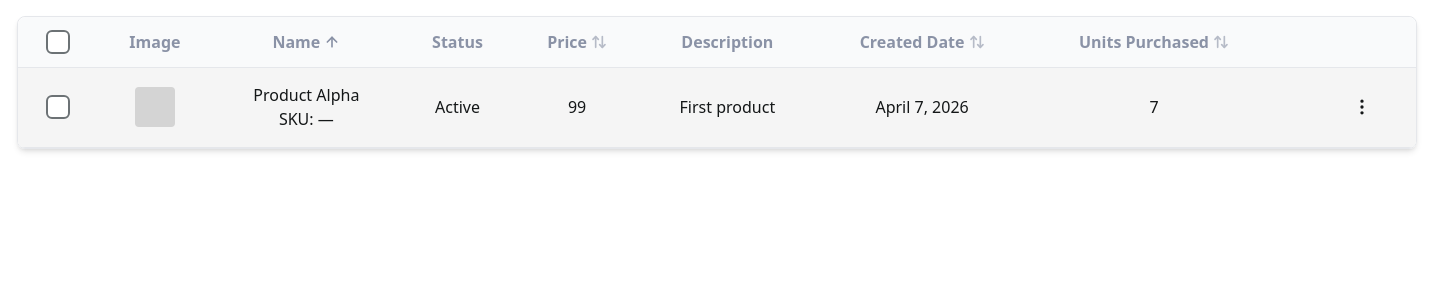
Test: UI Component: TableProducts › should disable delete action for non-draft products
The image size is (1435, 288).
Click the button named "Open actions for Product Alpha" at (1362, 107), box [1332,86,1392,128]
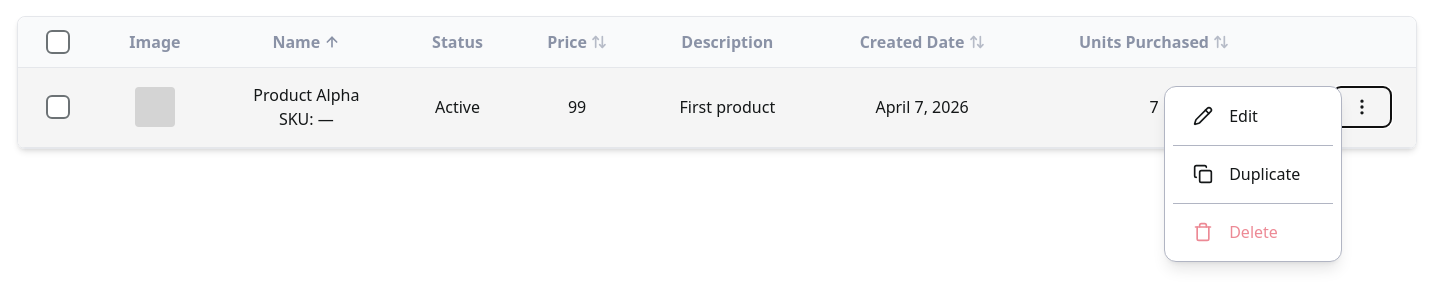
Expected: the button "Delete" is disabled, [1173,212,1298,253]
